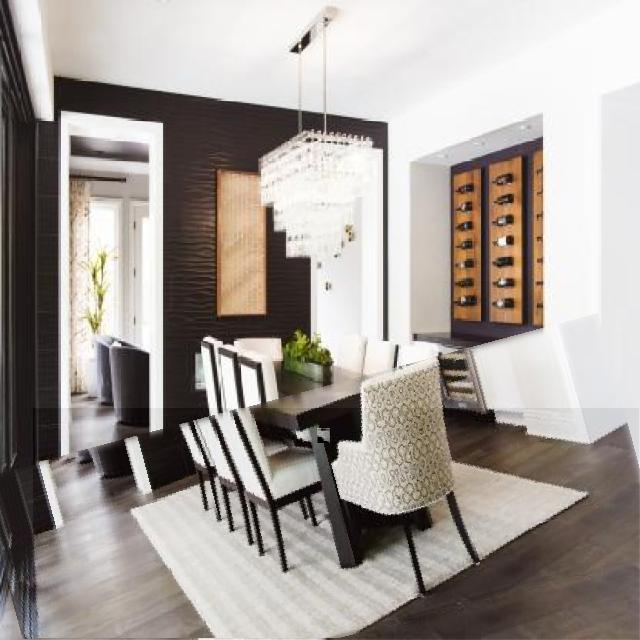floor: (34, 409, 640, 639), (317, 429, 330, 443)
